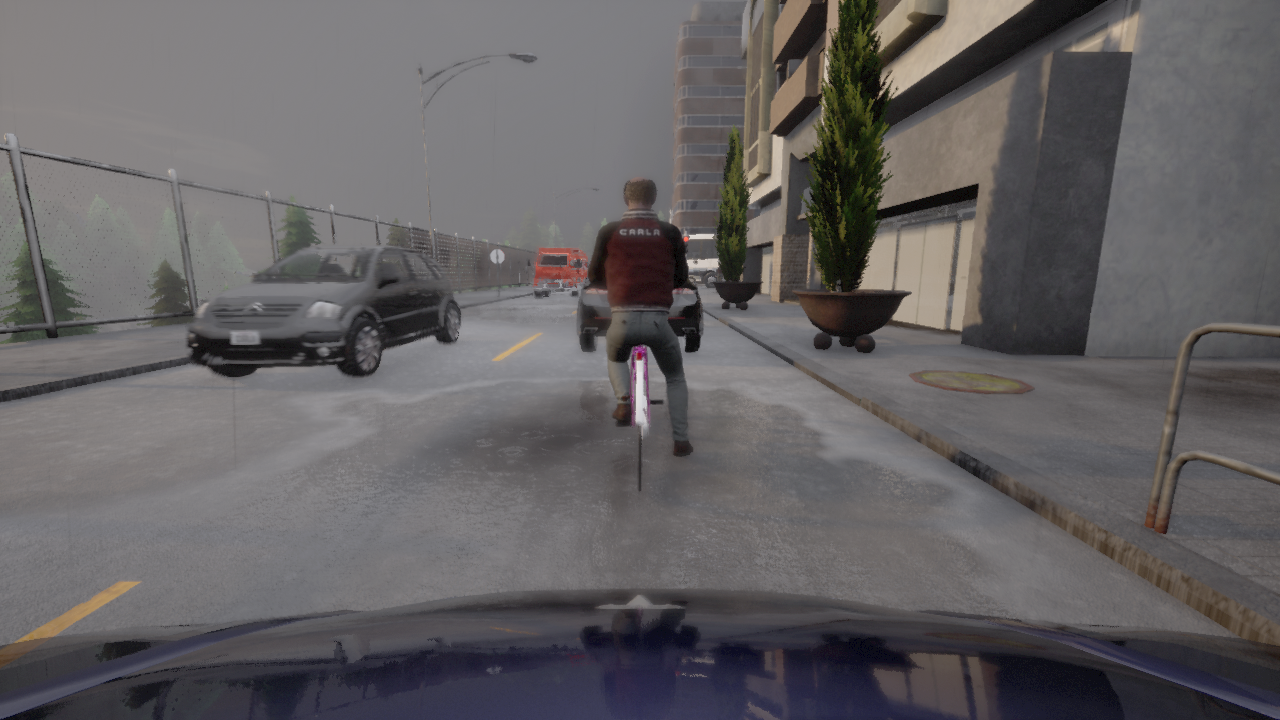cyclist: (0, 588, 1279, 719), (185, 245, 462, 377), (576, 276, 702, 352), (616, 345, 663, 491), (527, 247, 587, 297), (681, 233, 725, 287)
pedestrian: (716, 267, 722, 280)
